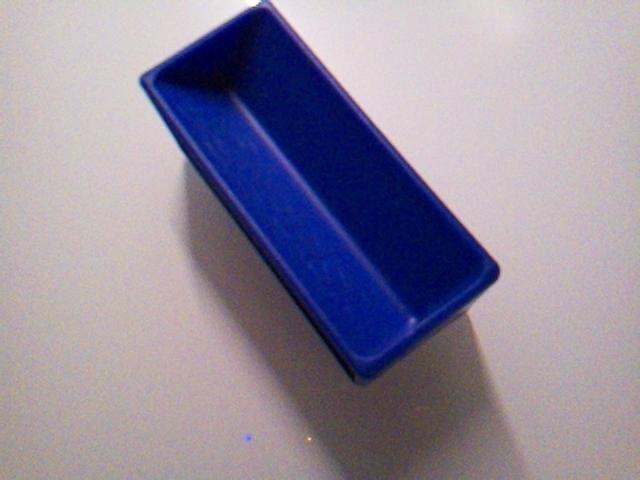blue: (138, 1, 502, 385)
